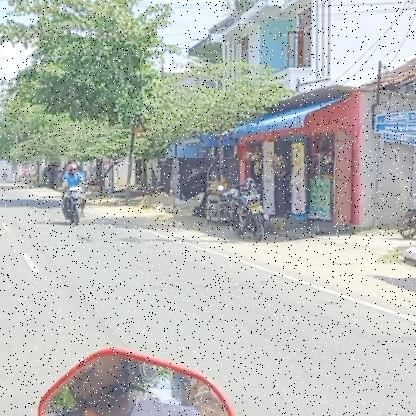motorcycle: (60, 186, 88, 227)
